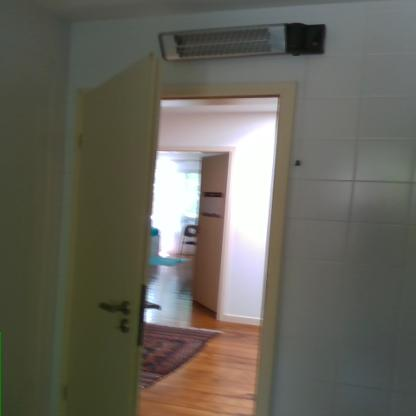semi: (66, 49, 299, 416)
